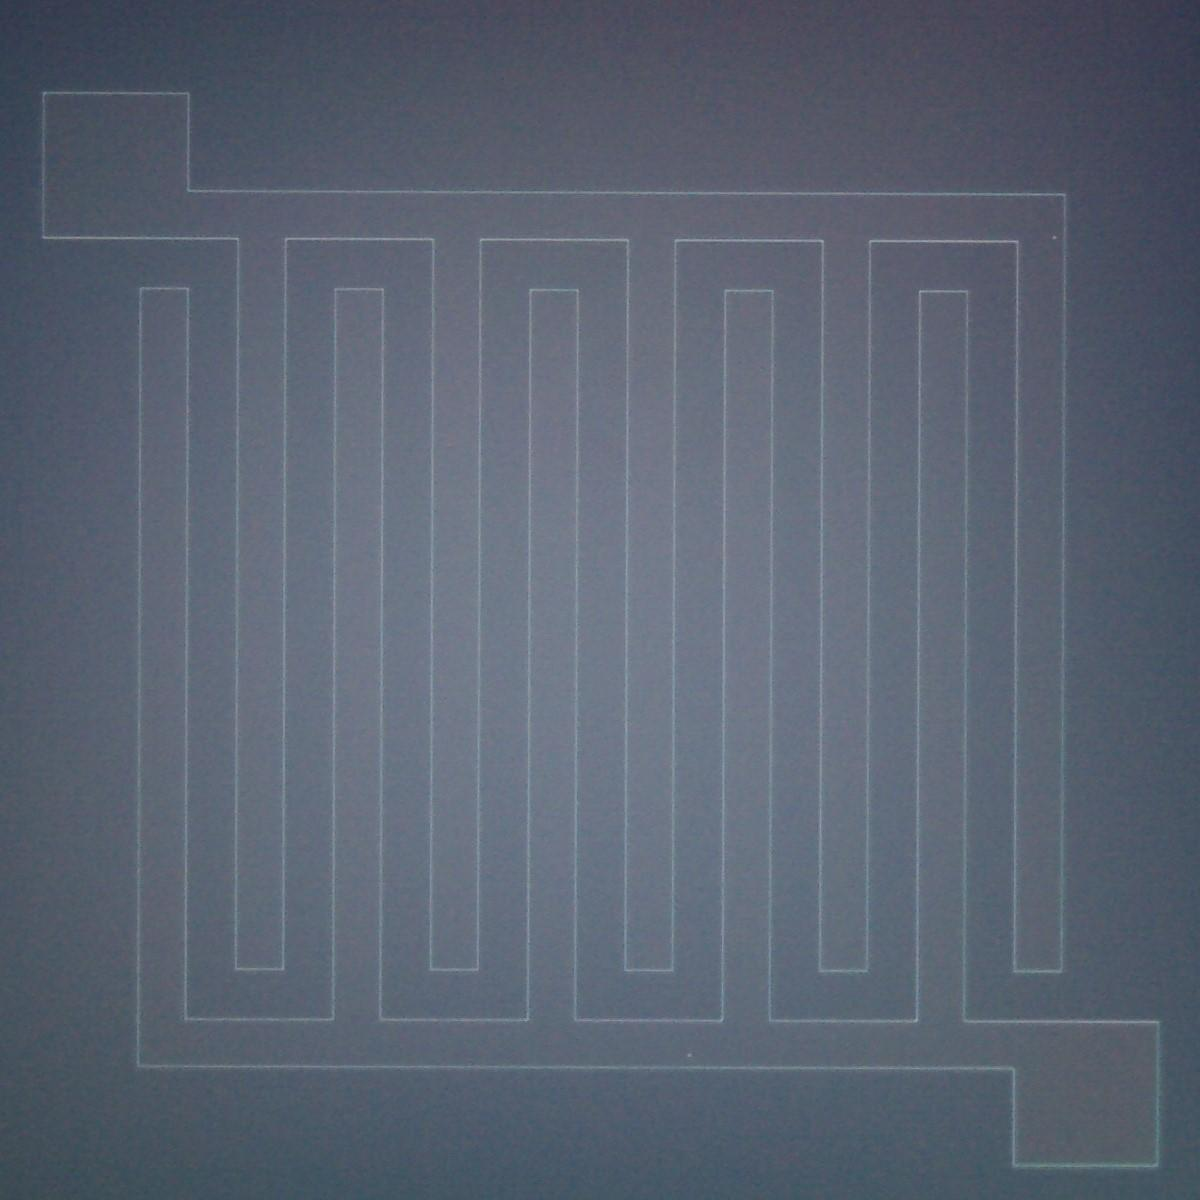s_point: (682, 1048, 697, 1063), (1049, 231, 1060, 243)
